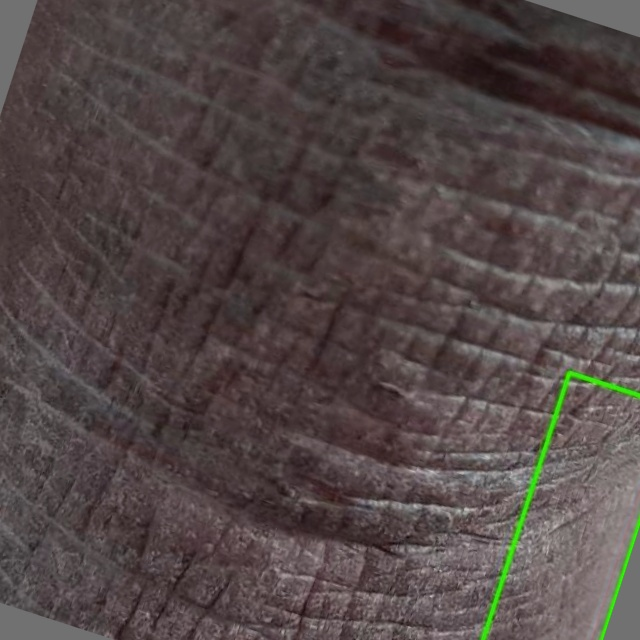Eczema: (483, 372, 639, 639)
